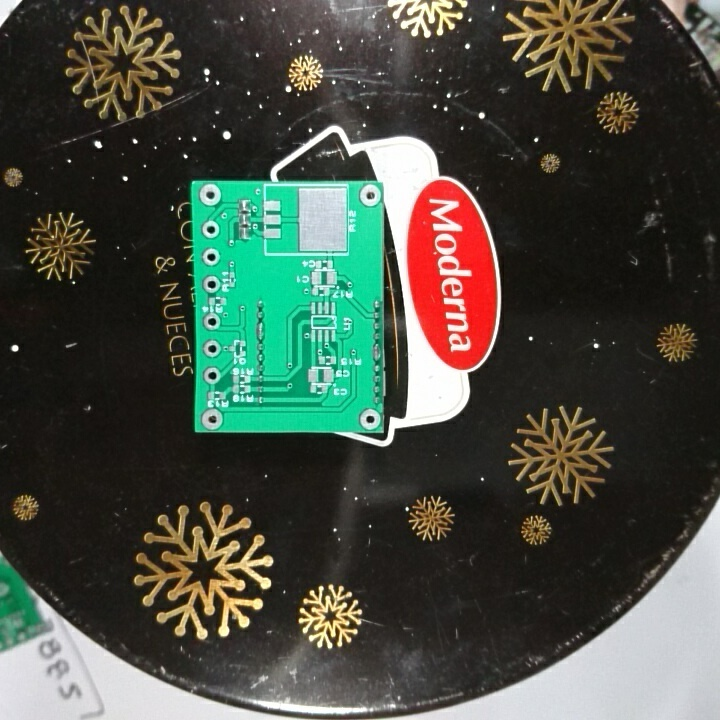F: (197, 182, 224, 209), (357, 182, 382, 209), (198, 407, 226, 431), (359, 406, 383, 431), (199, 310, 222, 334), (200, 246, 222, 269), (201, 274, 222, 298), (201, 337, 222, 358), (200, 219, 220, 241), (203, 366, 222, 386)
P: (255, 320, 268, 343), (371, 341, 382, 365)
